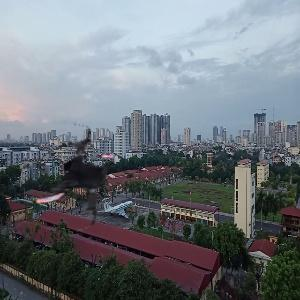drone: (13, 120, 129, 236)
